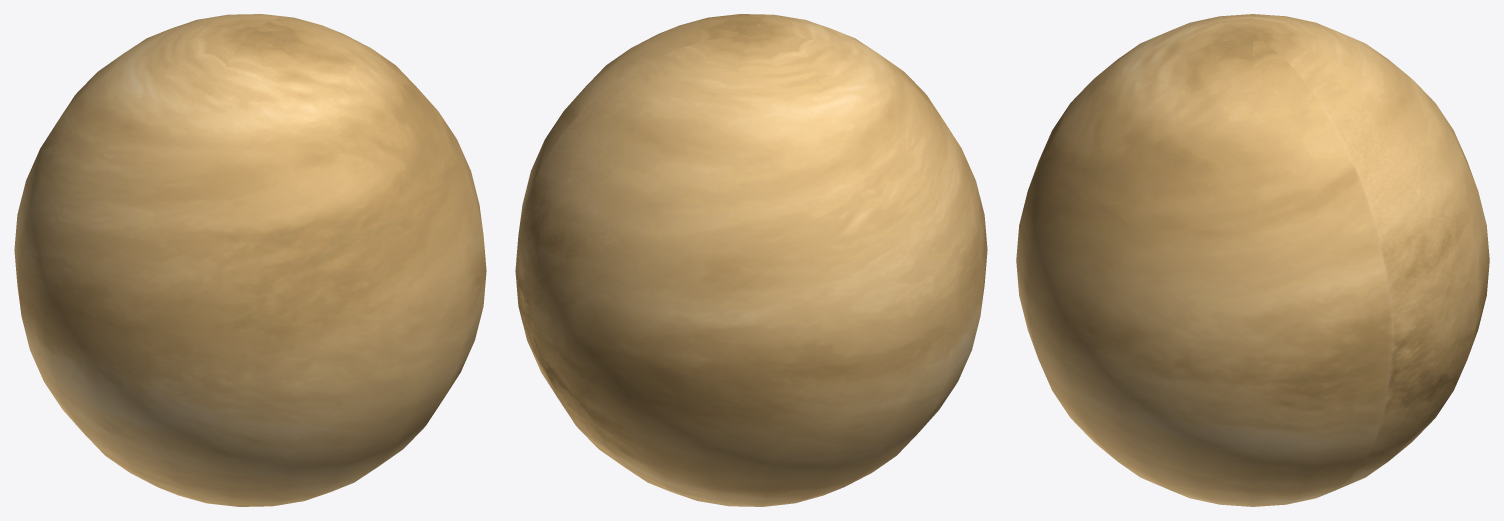
Rendered from Venus.fbx.
The picture shows the model from 3 angles, left to right: view 1: azimuth 30°, elevation 25°; view 2: azimuth 150°, elevation 25°; view 3: azimuth 270°, elevation 25°; orthographic projection.
Visible parts, largest first — view 1: Venus; view 2: Venus; view 3: Venus.
Part boxes in pixels (box(x1,y1,x2,y2)): Venus: box(14, 14, 486, 506); Venus: box(515, 14, 987, 506); Venus: box(1016, 14, 1489, 506).
Size of the model in its own units: 28.96 by 30.54 by 28.92.
